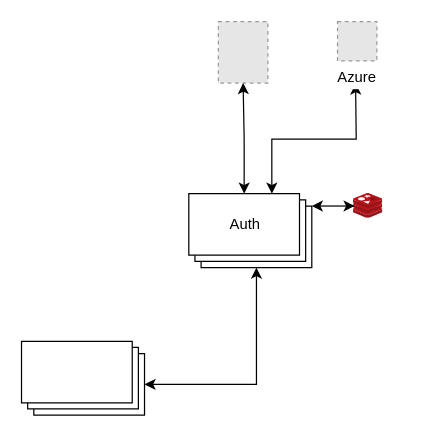
The diagram is 446 pixels wide and 437 high, and some of its shapes have lost their labels. Grey dashed boxes stand in for pictures. Here are the shapes that lost their labels. From the top down, the box of each, then its label:
(353, 193, 382, 218): Cache
(20, 340, 145, 415): Gateway
